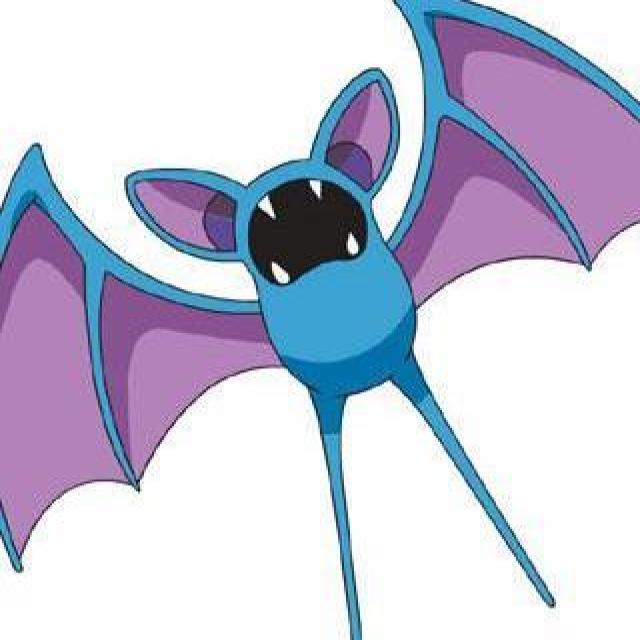Zubat: (84, 60, 566, 506)
